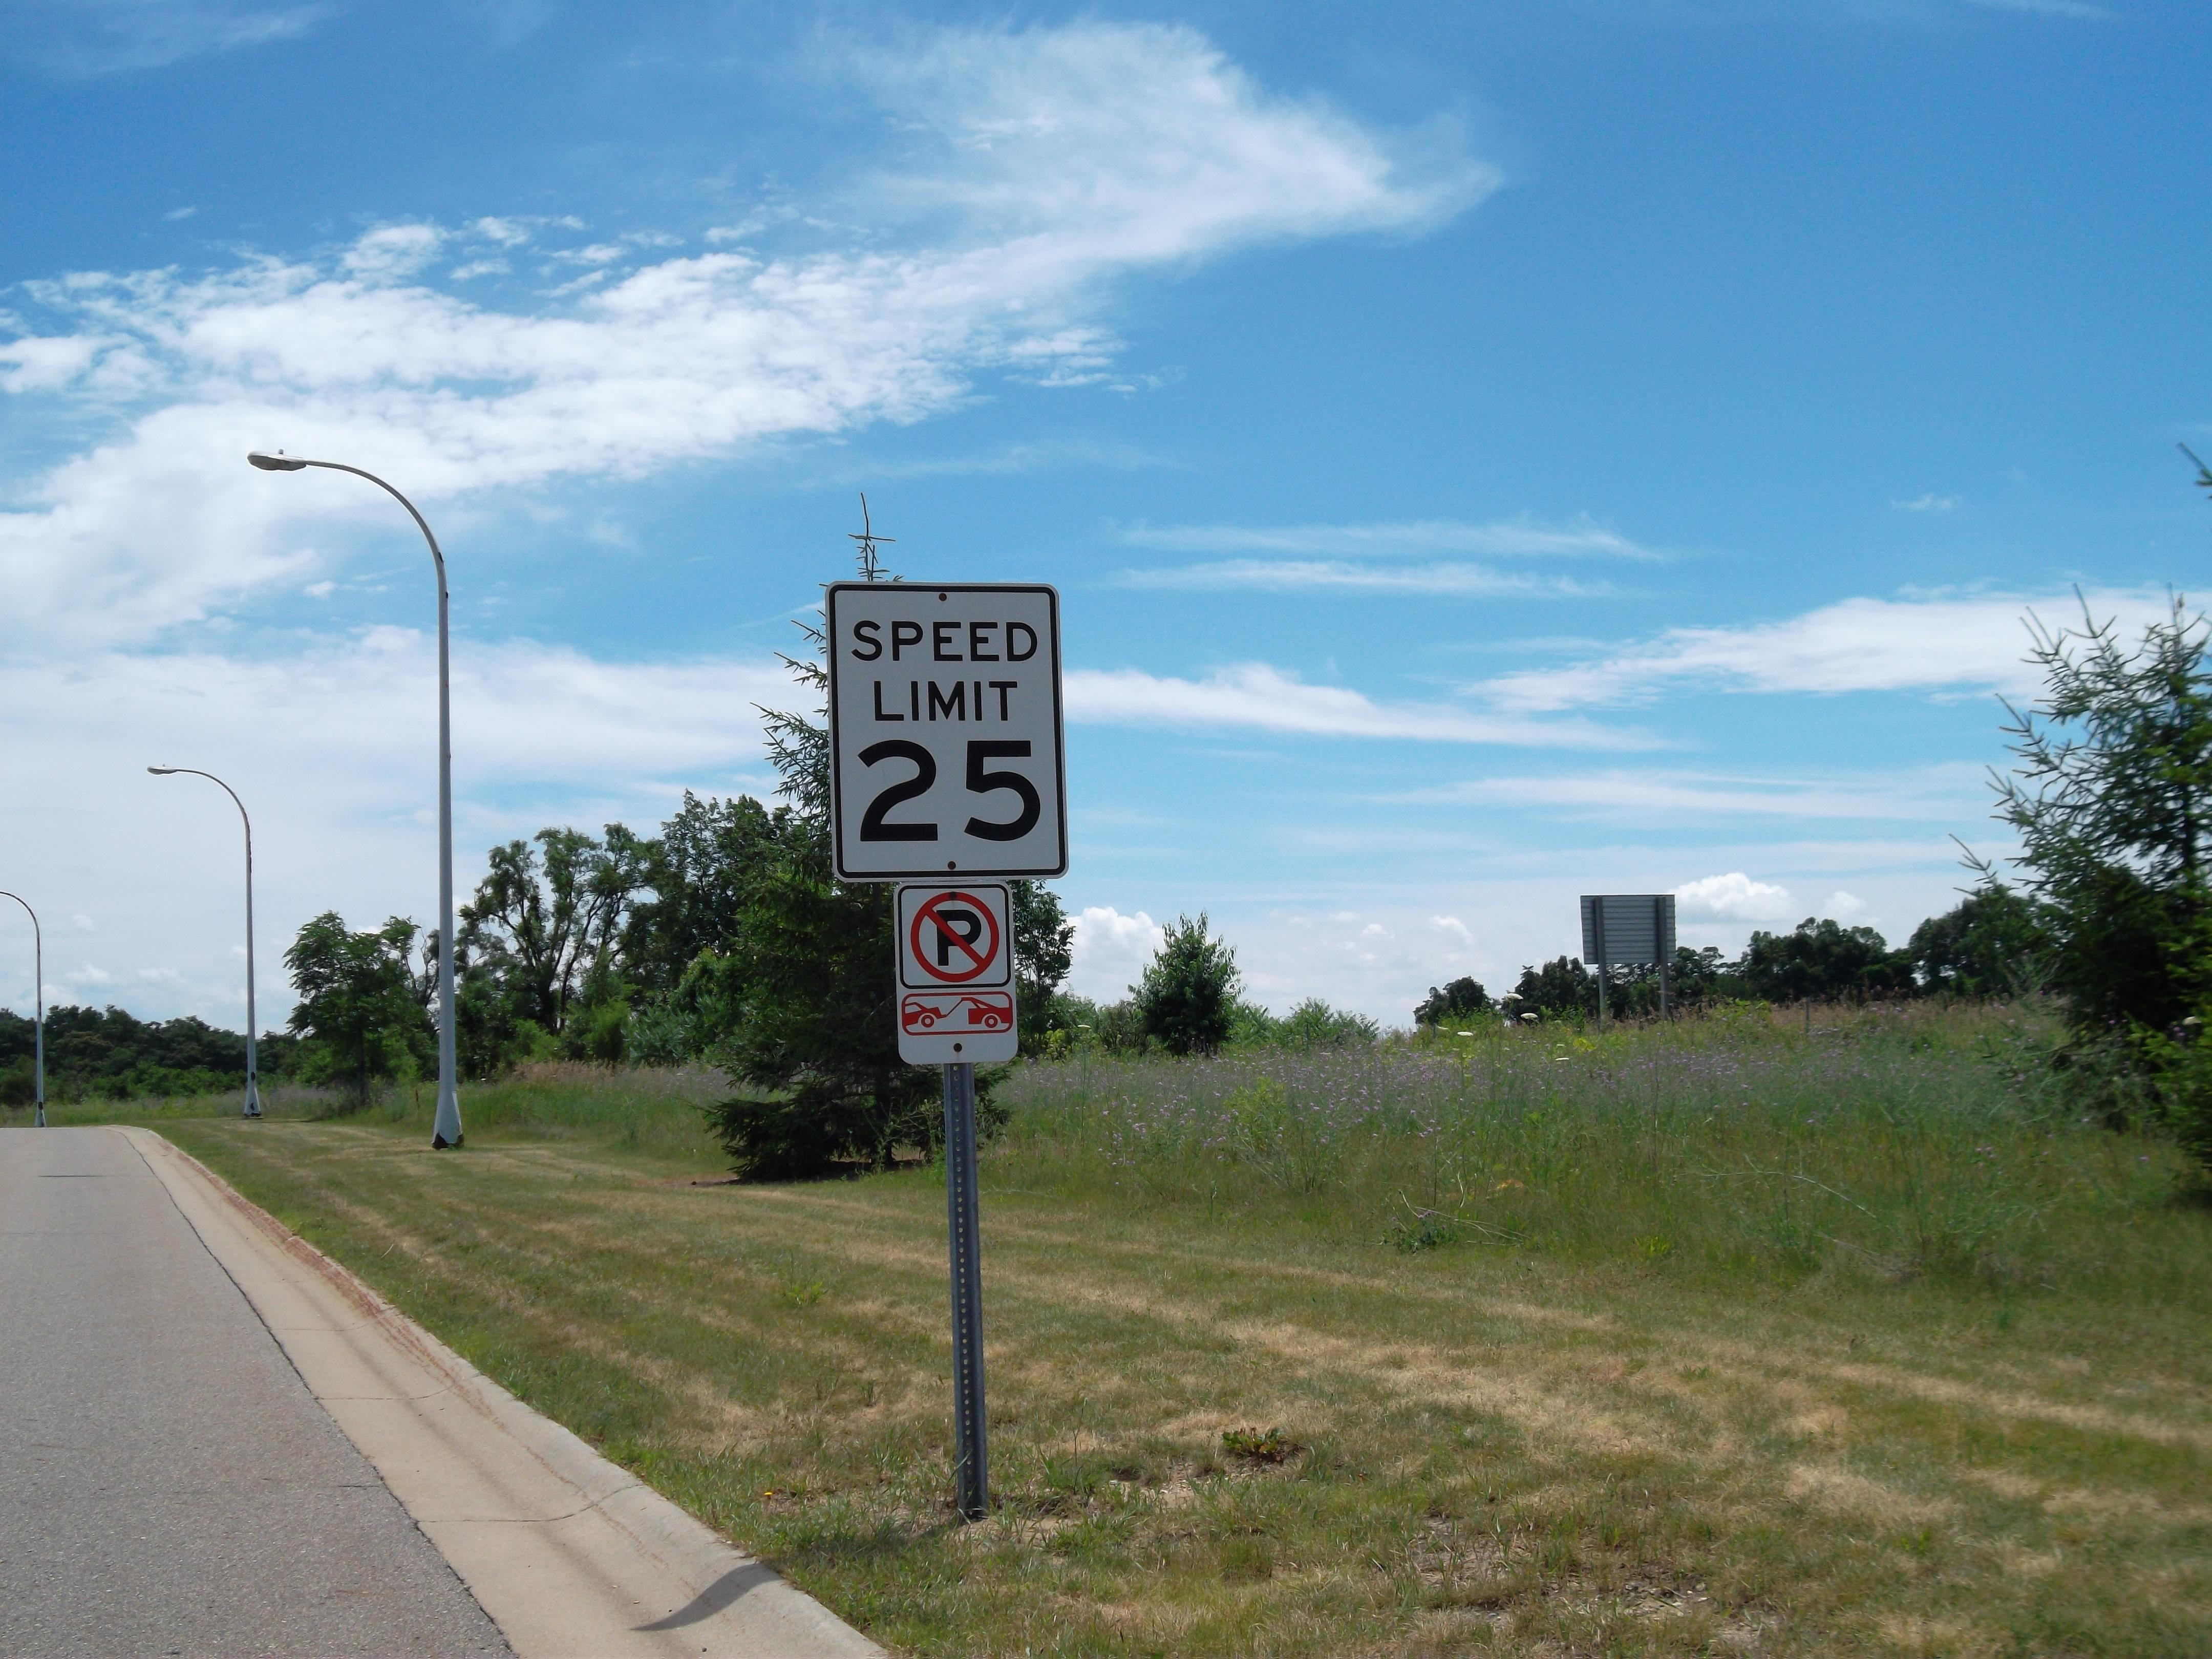regulatory: (822, 556, 1075, 880)
